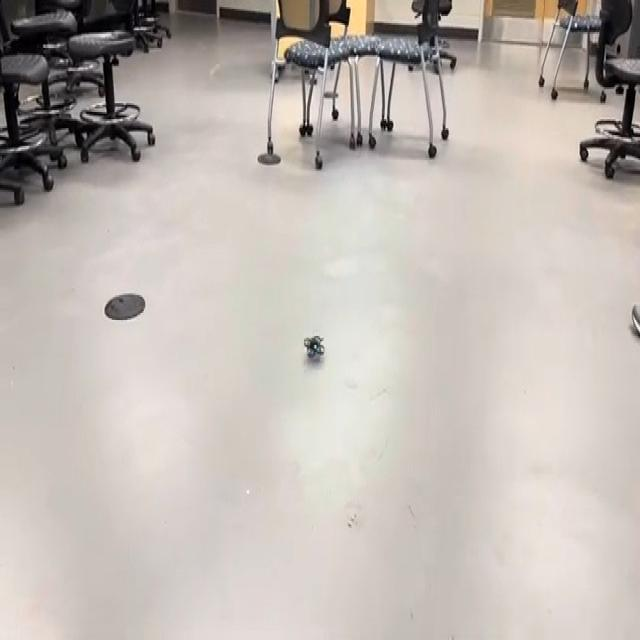drone: (299, 324, 330, 372)
